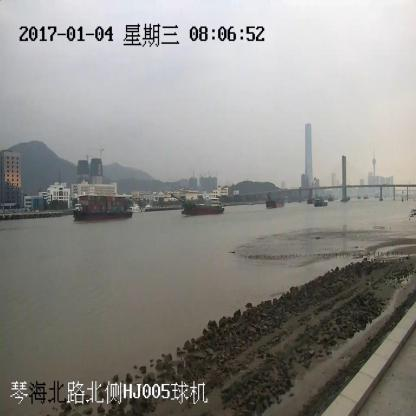Container Ship: (72, 196, 134, 219)
